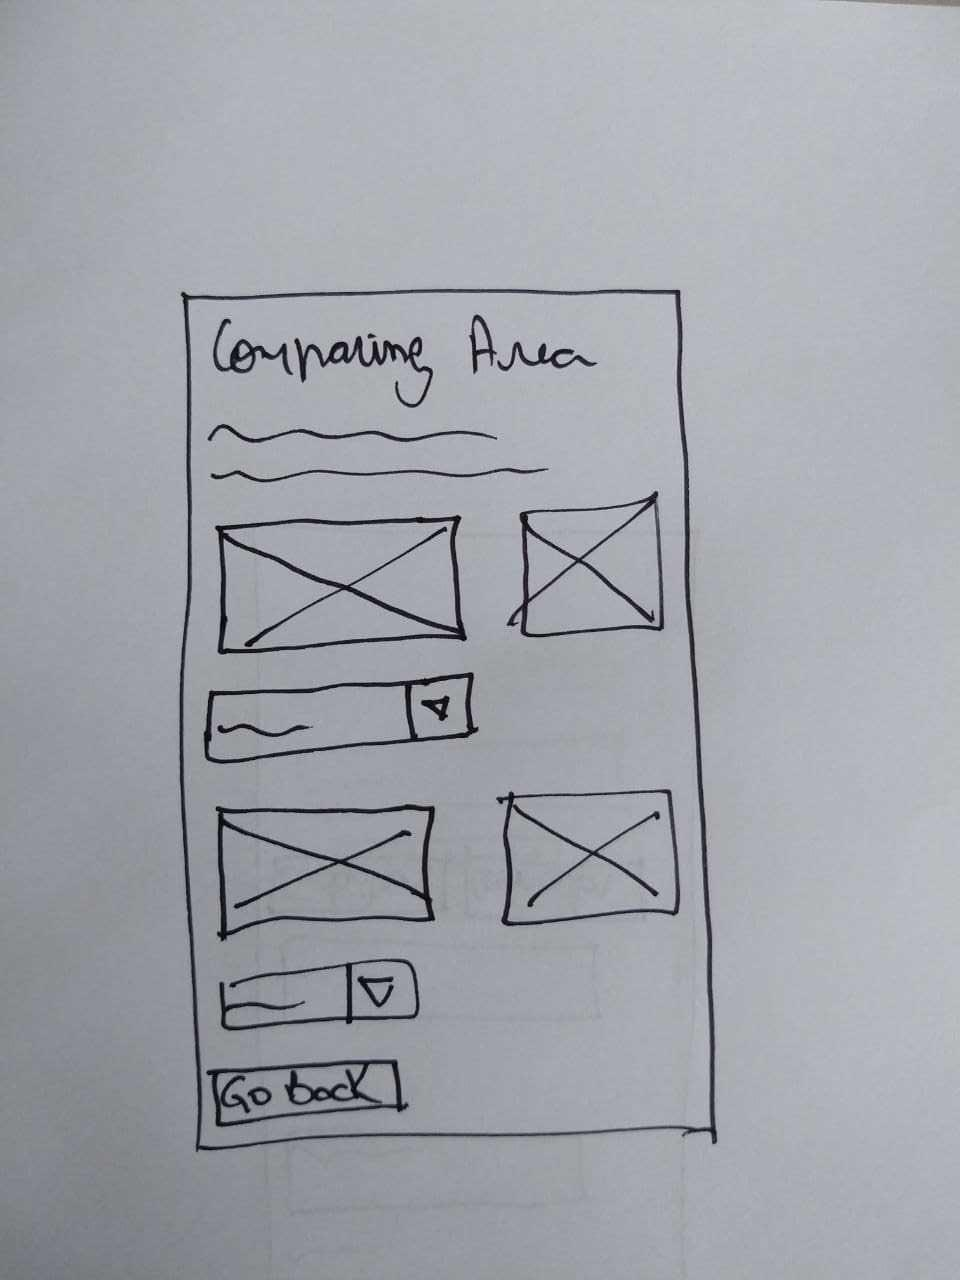Button: (211, 1059, 401, 1128)
Image: (217, 515, 466, 653), (217, 804, 434, 938), (497, 788, 680, 925), (520, 495, 664, 636)
Label: (211, 312, 599, 407), (208, 420, 554, 484)
ListPicker: (204, 672, 474, 765), (218, 958, 419, 1032)
Screen: (181, 289, 716, 1150)
